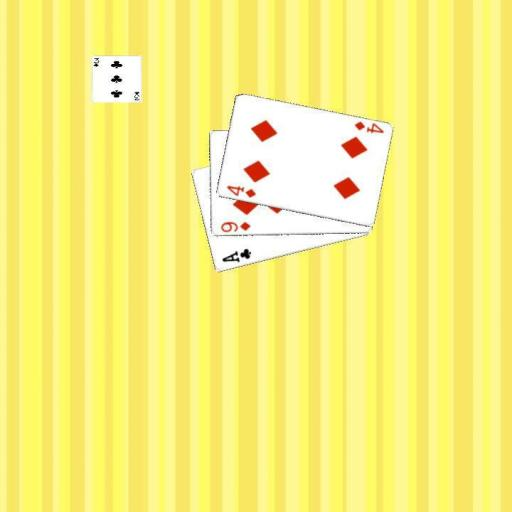card-corner: (218, 245, 252, 264), (223, 183, 257, 200), (350, 118, 384, 135), (218, 219, 252, 233)
